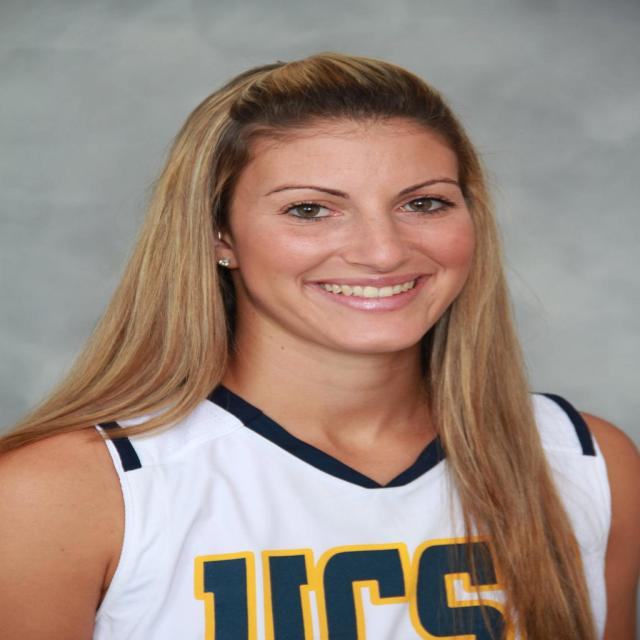Face: (199, 103, 487, 391)
